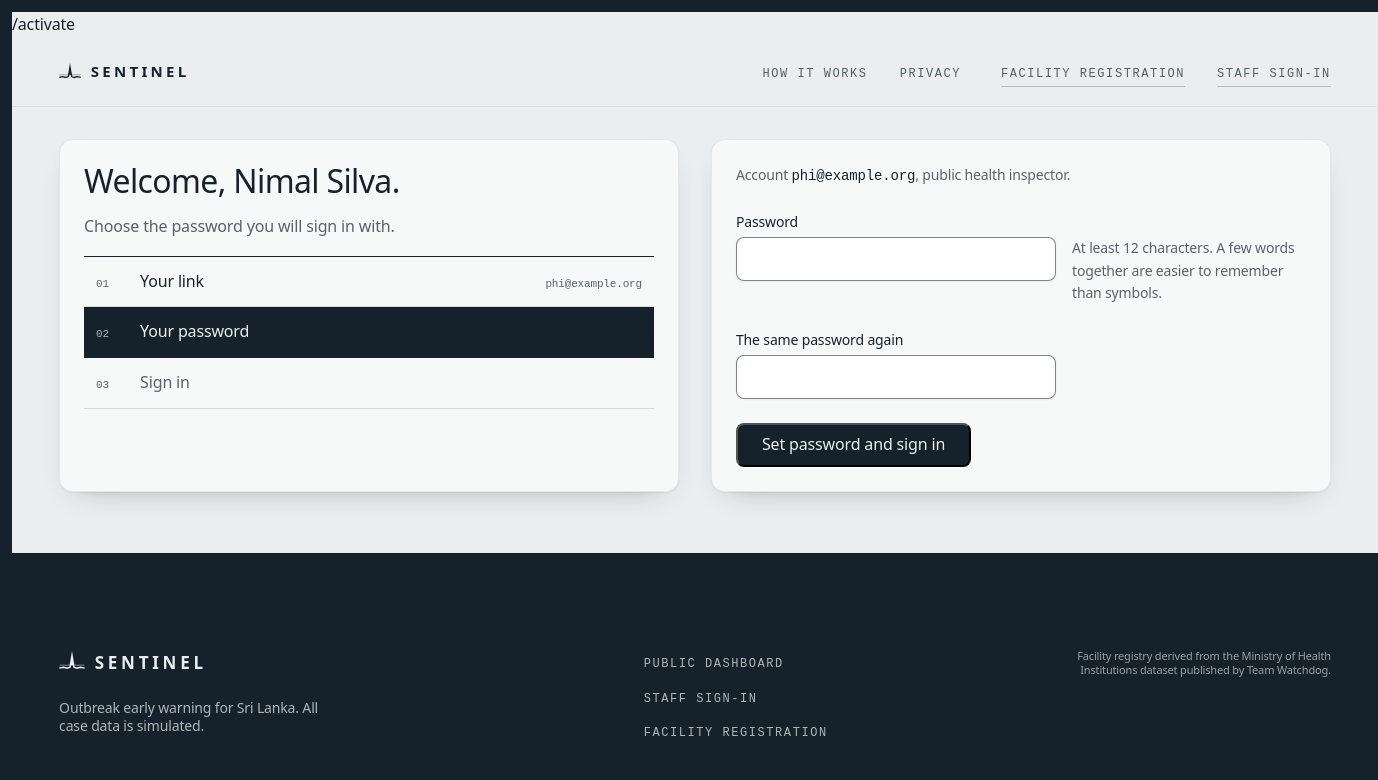
Test: ActivatePage › catches two passwords that differ before sending either
The width and height of the screenshot is (1378, 780).
Type "a long enough password" into the password field labelled "Password" at x=896, y=259, box [736,237,1056,281]
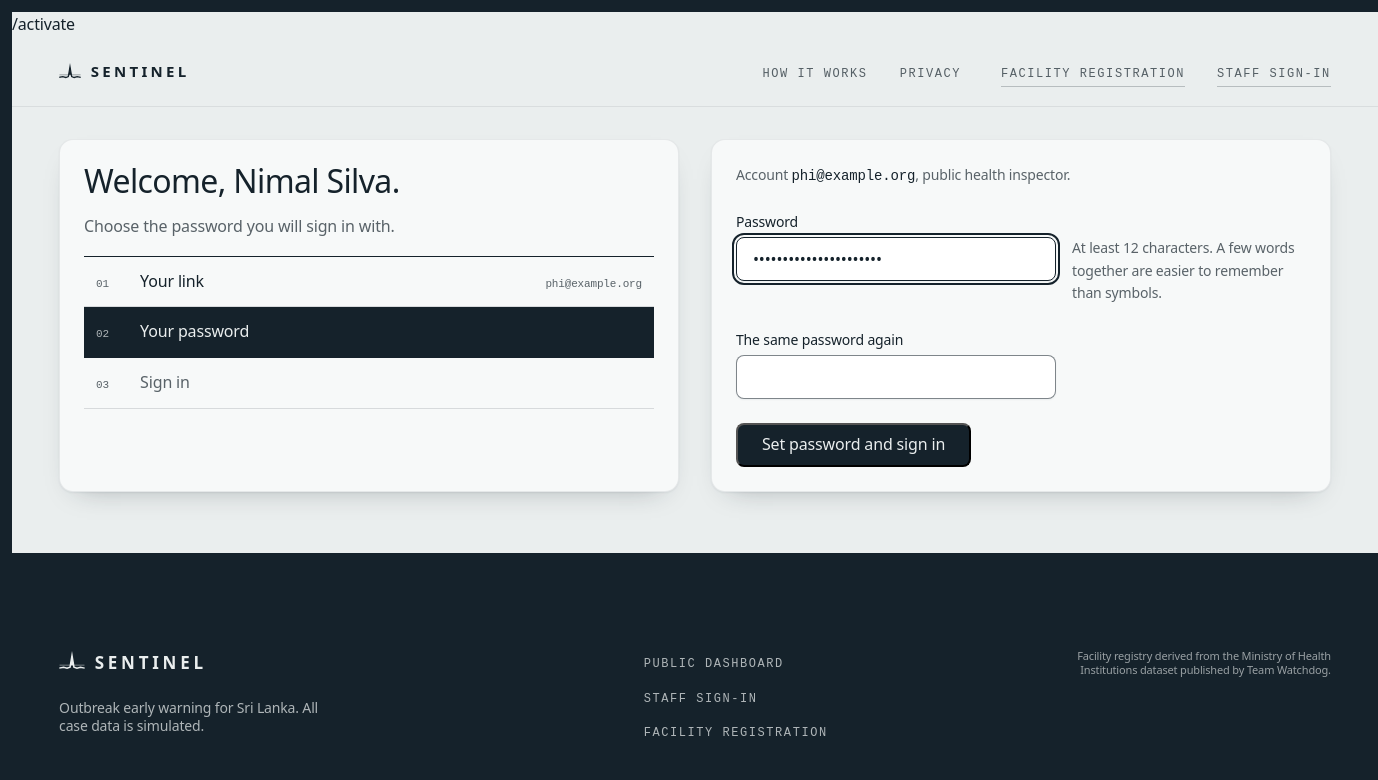
Type "a different password" into the password field labelled "The same password again" at x=896, y=377, box [736,355,1056,399]
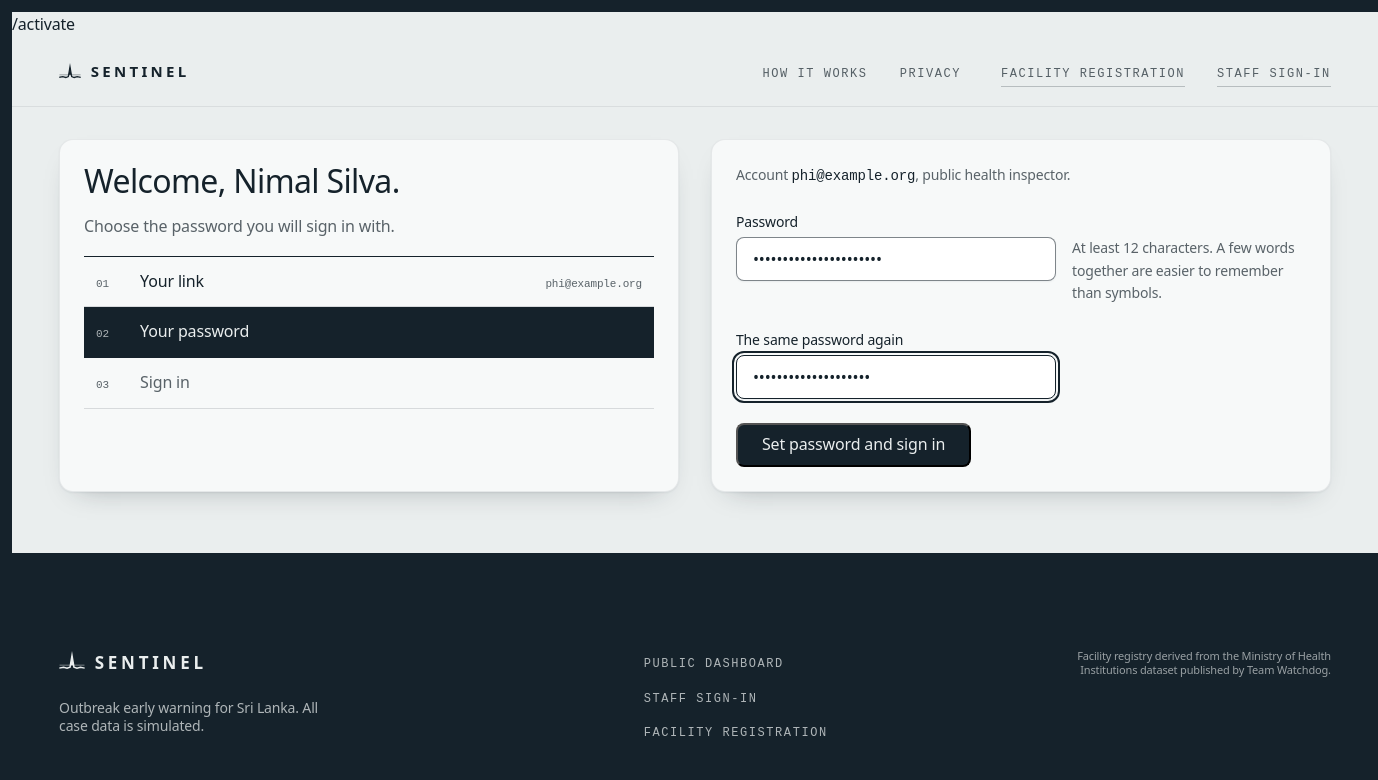
Click the button "Set password and sign in" at x=854, y=445, box [736,423,971,467]
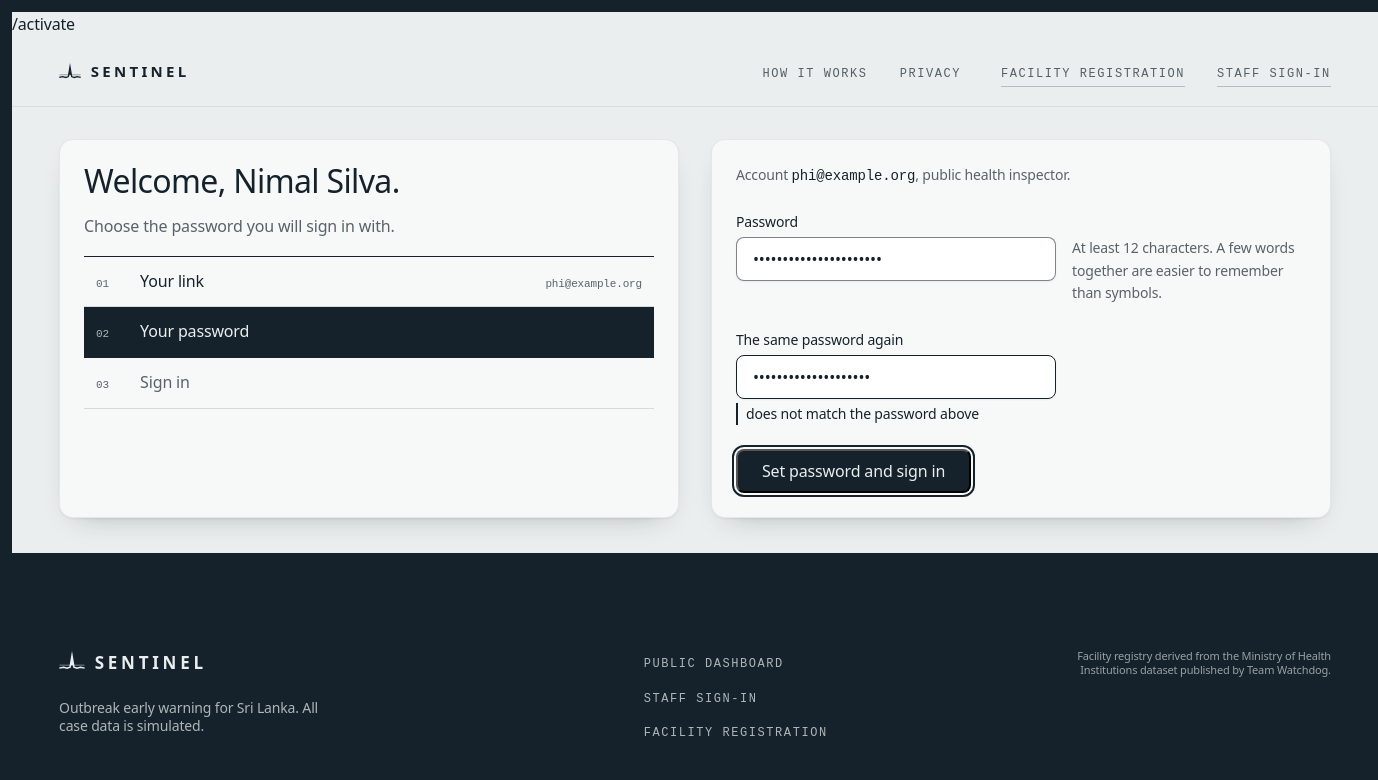
expect the text "does not match the password above" is shown: met, box [736,403,1306,425]
